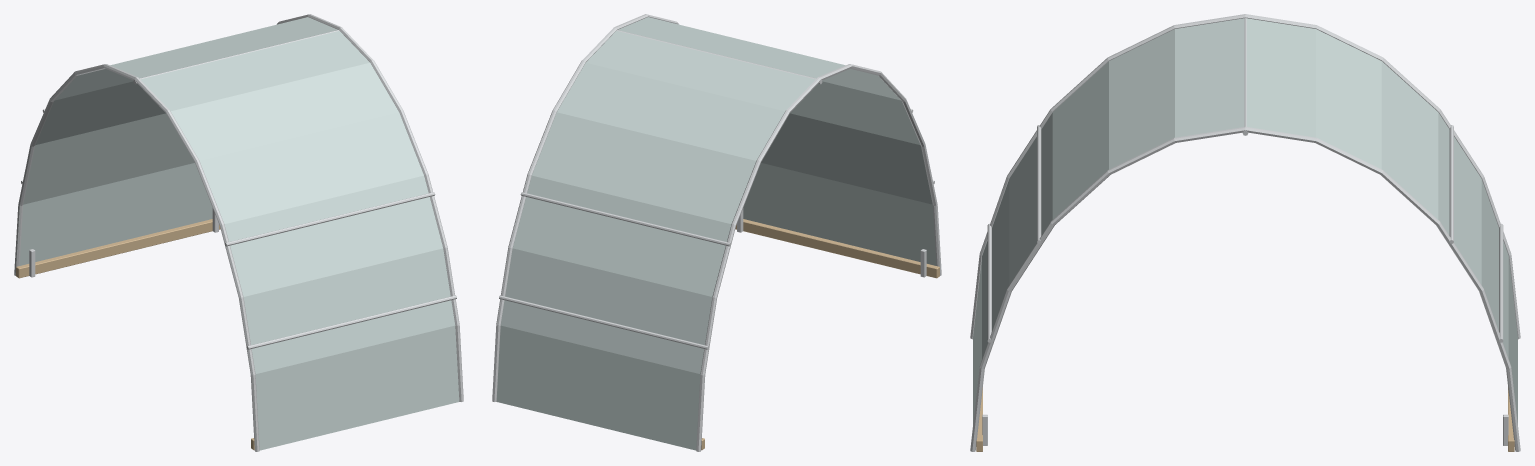
File: garden-centre-and-florist-polytunnel-hoop-bay-1ce16b21__17713.glb
3 views of the same model, side by side, from view 1: azimuth 30°, elevation 25°; view 2: azimuth 150°, elevation 25°; view 3: azimuth 270°, elevation 25° (orthographic). The views are drawn at different scales.
Visible parts, largest first — view 1: polytunnel-hoop-bay; view 2: polytunnel-hoop-bay; view 3: polytunnel-hoop-bay.
Boxes of the visible parts, <box> form: polytunnel-hoop-bay: <box>14,14,463,451</box>; polytunnel-hoop-bay: <box>492,14,941,451</box>; polytunnel-hoop-bay: <box>970,14,1520,451</box>.
Bounding box in the file's own units: 2 × 2.62 × 4.04.
